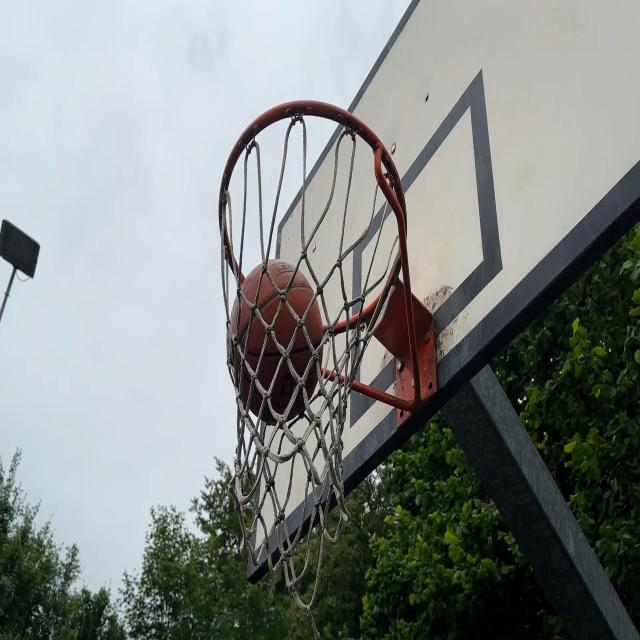Goal: (230, 262, 323, 421)
